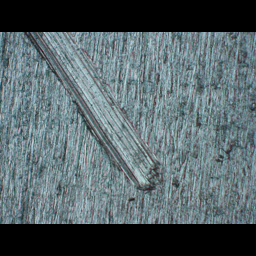d: (20, 32, 163, 195)
